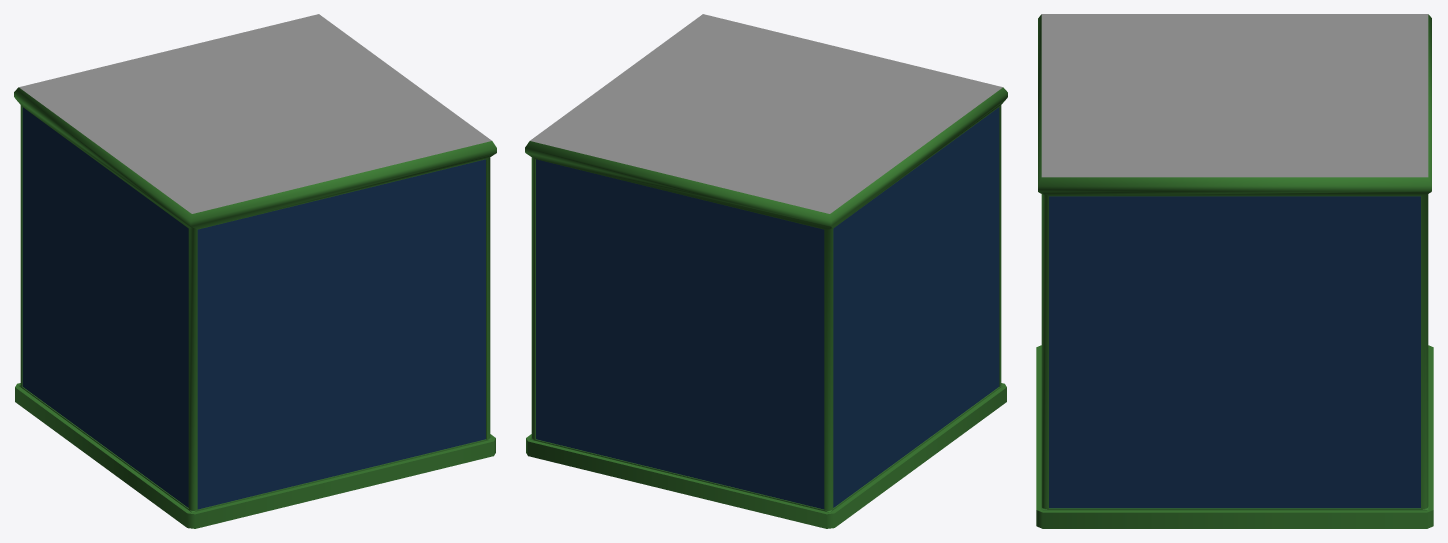
File: Cubewall.FBX
The picture shows the model from 3 angles, left to right: view 1: azimuth 30°, elevation 25°; view 2: azimuth 150°, elevation 25°; view 3: azimuth 270°, elevation 25°; orthographic projection. The views are drawn at different scales.
Parts seen in each view (by area): view 1: Box002; view 2: Box002; view 3: Box002.
Part boxes in pixels (x1=…): Box002: x1=14, y1=14, x2=496, y2=528; Box002: x1=525, y1=14, x2=1007, y2=528; Box002: x1=1036, y1=14, x2=1433, y2=528.
Size of the model in its own units: 10.28 by 9.97 by 10.28.
